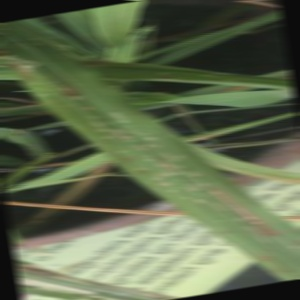Brown_Spot: (211, 170, 286, 245)
